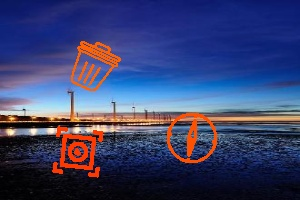垃圾桶: (73, 40, 119, 89)
指南针: (166, 112, 218, 162)
相框: (54, 126, 103, 180)
